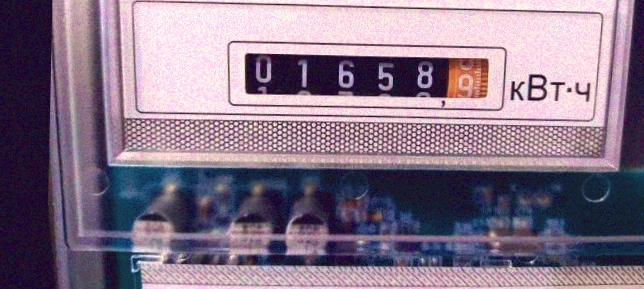0: (252, 52, 273, 84)
1: (296, 57, 309, 88)
5: (375, 59, 395, 92)
6: (336, 58, 356, 89)
8: (414, 58, 434, 91)
9: (454, 71, 473, 98)
screen: (218, 31, 511, 116)
